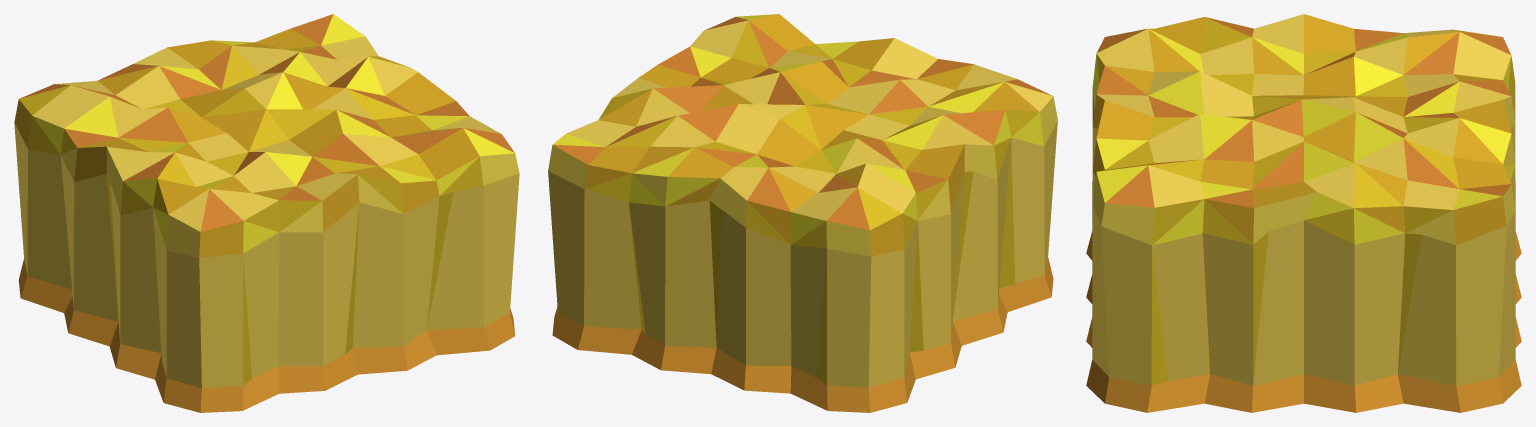
Rendered from wheat_field.fbx.
3 views of the same model, side by side, from view 1: azimuth 30°, elevation 25°; view 2: azimuth 150°, elevation 25°; view 3: azimuth 270°, elevation 25° (orthographic). The views are drawn at different scales.
Visible parts, largest first — view 1: wheat_field; view 2: wheat_field; view 3: wheat_field.
Part boxes in pixels (<box>): wheat_field: <box>14,14,519,412</box>; wheat_field: <box>548,14,1057,412</box>; wheat_field: <box>1086,14,1521,412</box>.
Bounding box in the file's own units: 111 × 63.39 × 109.
